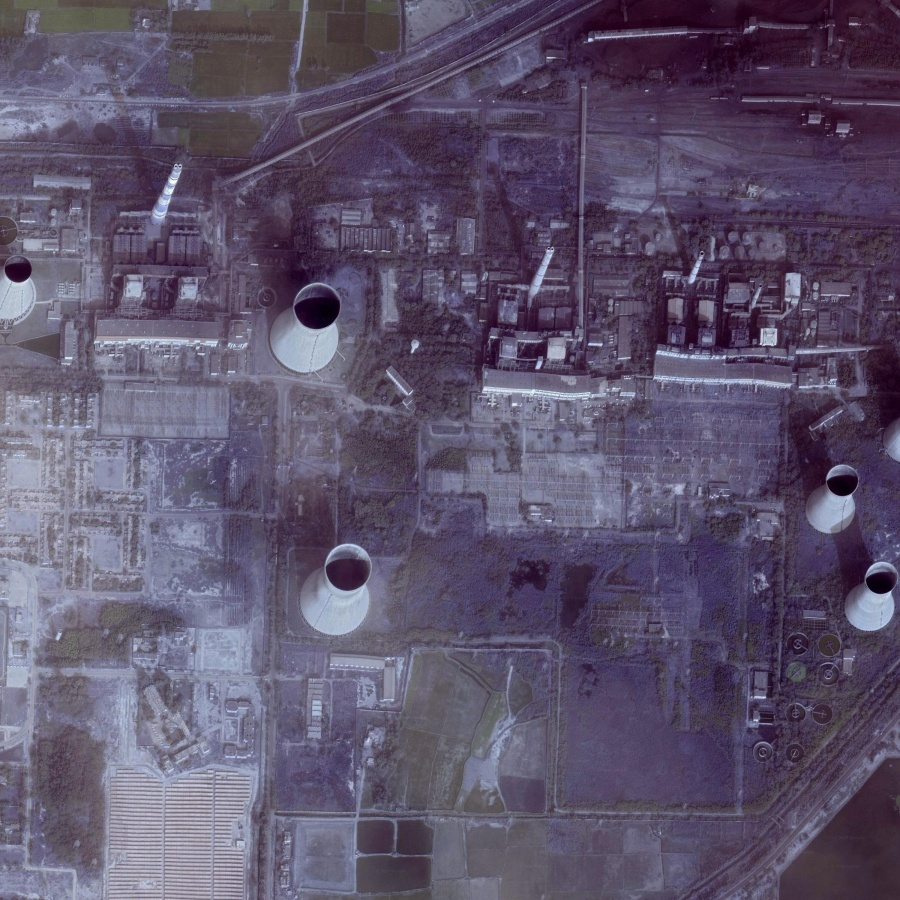PowerPlant: (280, 531, 524, 805)
